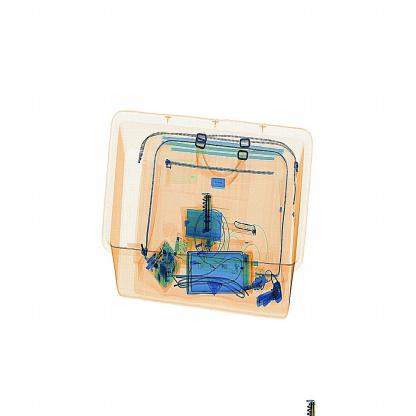scissors: (202, 192, 216, 236)
